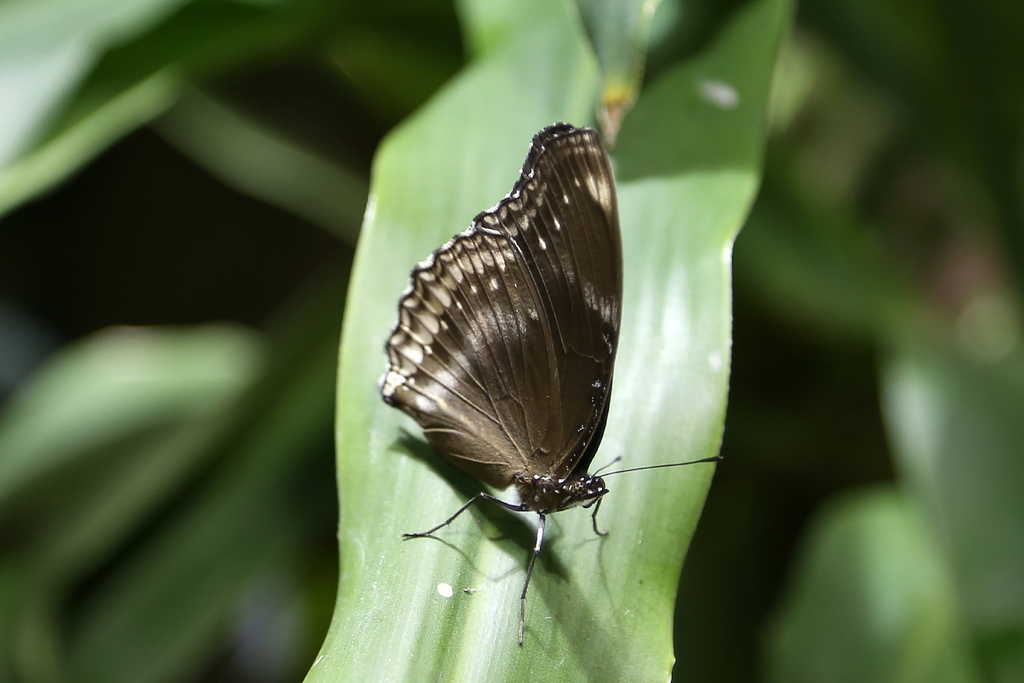Butterfly: (377, 125, 681, 602)
